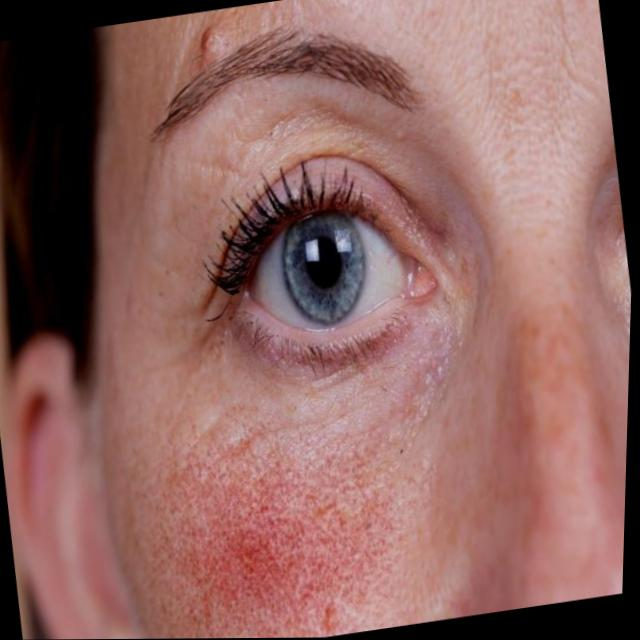Rosacea: (140, 396, 459, 639)
